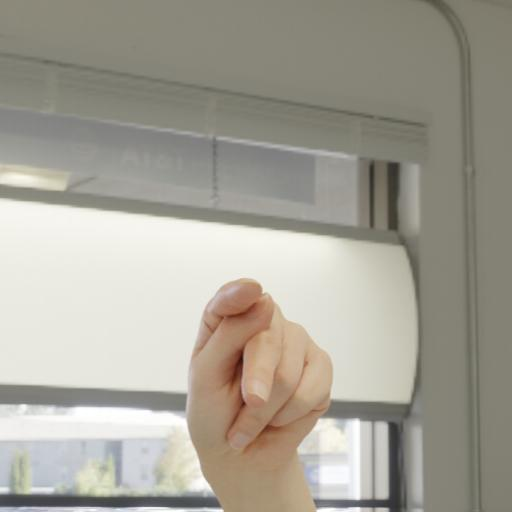P: (180, 273, 339, 482)
